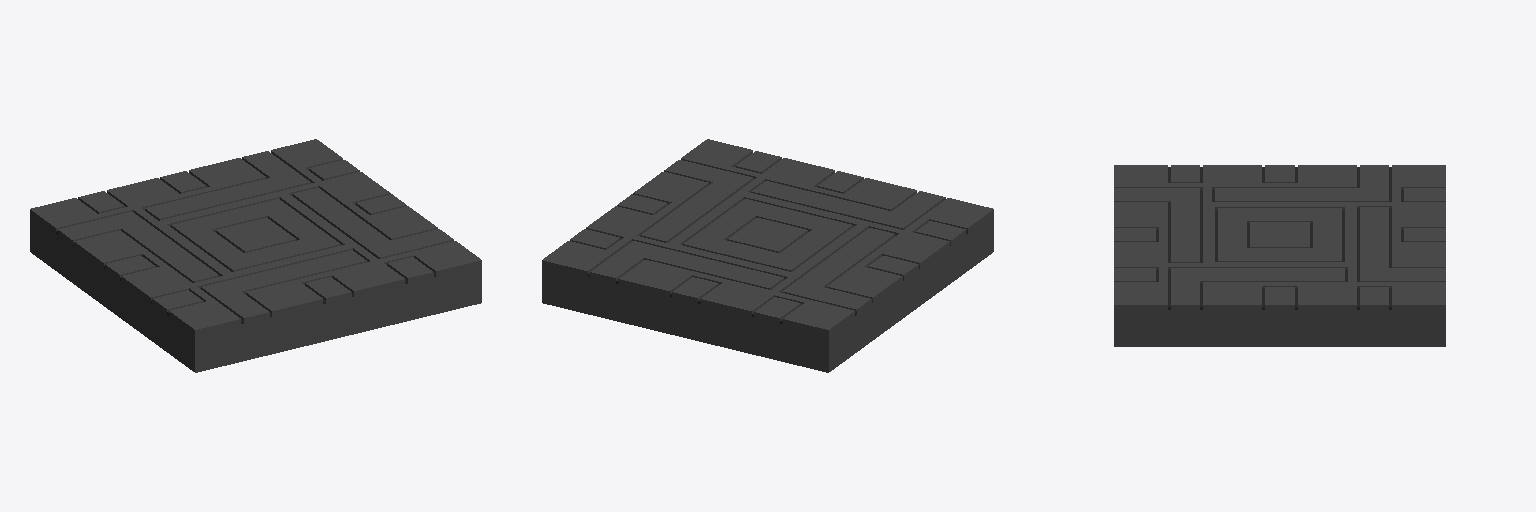
3 renders of one model, left to right at view 1: azimuth 30°, elevation 25°; view 2: azimuth 150°, elevation 25°; view 3: azimuth 270°, elevation 25°, orthographic.
Visible parts, largest first — view 1: Floor5; view 2: Floor5; view 3: Floor5.
Boxes of the visible parts, <box> form: Floor5: <box>30,139,481,372</box>; Floor5: <box>542,139,993,372</box>; Floor5: <box>1114,165,1445,346</box>.
Size of the model in its own units: 7.06 by 1.01 by 7.06.
1 materials, 1 textured.